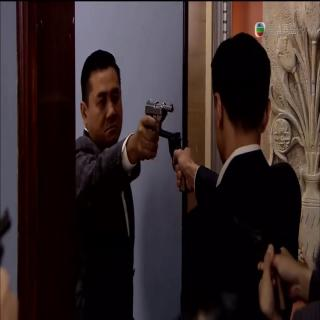gun: (128, 91, 172, 162), (160, 121, 192, 195)
